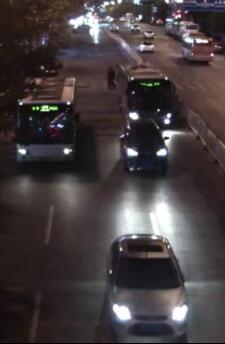bus: (12, 74, 80, 170), (113, 61, 178, 128), (180, 31, 215, 64), (171, 19, 200, 38), (164, 17, 175, 33)
car: (106, 233, 191, 342), (118, 115, 171, 179), (135, 40, 156, 54), (106, 21, 120, 32), (129, 22, 140, 33), (142, 28, 154, 38)
